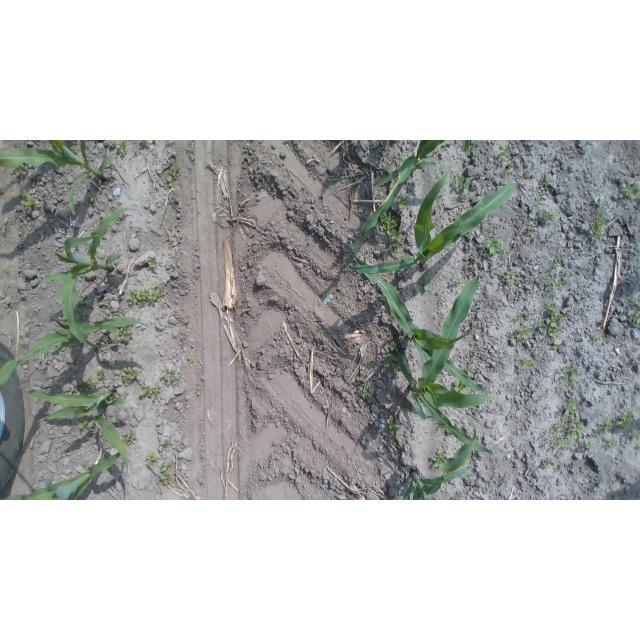Maize: (398, 271, 506, 460), (350, 241, 484, 392), (346, 166, 515, 273), (42, 207, 145, 350), (0, 315, 152, 389), (361, 141, 471, 242), (26, 386, 131, 473), (1, 140, 114, 214), (389, 409, 477, 500), (1, 451, 122, 500)
Weeds: (545, 416, 584, 449), (378, 211, 405, 251), (127, 281, 166, 308), (546, 304, 566, 339), (20, 188, 41, 215), (589, 215, 607, 245), (72, 378, 96, 396), (139, 382, 161, 401), (161, 366, 181, 386), (382, 353, 402, 373), (121, 367, 139, 386), (485, 236, 503, 255), (455, 173, 471, 194), (386, 418, 400, 440), (617, 411, 634, 429), (160, 462, 173, 485), (163, 166, 179, 184), (432, 449, 447, 468), (450, 379, 466, 394), (119, 325, 132, 343), (552, 253, 564, 272), (623, 183, 638, 198), (517, 325, 532, 340), (495, 147, 509, 162), (565, 398, 578, 414), (560, 366, 578, 377), (559, 376, 573, 390), (419, 275, 431, 291), (10, 164, 24, 177), (593, 196, 604, 212), (543, 208, 560, 218), (360, 386, 373, 399), (124, 430, 136, 444), (116, 141, 128, 154), (147, 451, 158, 465), (551, 280, 565, 291), (629, 310, 640, 324), (78, 417, 89, 430), (507, 270, 518, 283), (602, 420, 613, 433), (454, 274, 465, 287), (73, 305, 83, 319), (536, 319, 546, 333), (65, 144, 78, 154), (630, 429, 640, 442), (397, 197, 407, 209), (522, 358, 532, 369), (592, 333, 603, 343), (544, 458, 554, 468), (97, 370, 106, 380), (533, 198, 543, 207), (586, 440, 595, 450), (101, 334, 110, 343), (359, 375, 368, 384), (147, 259, 157, 267), (110, 339, 118, 349), (609, 440, 617, 450), (389, 343, 399, 351), (164, 440, 175, 447), (88, 193, 96, 202), (467, 363, 473, 375), (515, 314, 524, 322), (453, 492, 462, 500), (107, 393, 118, 399), (543, 177, 550, 186), (543, 274, 550, 283), (634, 296, 640, 306), (189, 355, 196, 363), (317, 325, 324, 333), (139, 141, 150, 146), (81, 463, 88, 470), (473, 253, 480, 260), (109, 483, 117, 489), (197, 389, 203, 396), (508, 161, 514, 168), (545, 232, 555, 236), (542, 393, 548, 399), (474, 349, 479, 356), (553, 345, 560, 350), (502, 480, 507, 486), (472, 325, 477, 330), (200, 481, 205, 485), (572, 460, 576, 465), (594, 431, 598, 435), (220, 156, 223, 160)
